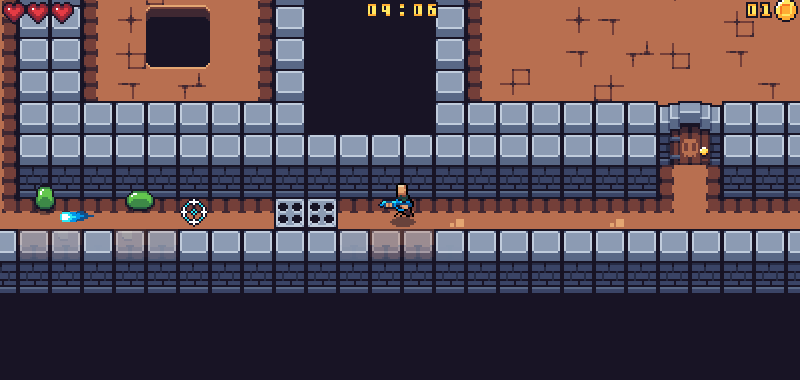door: (656, 100, 725, 165)
enemy_slug: (124, 186, 155, 210), (29, 184, 55, 212)
trap_off: (272, 195, 336, 229)
